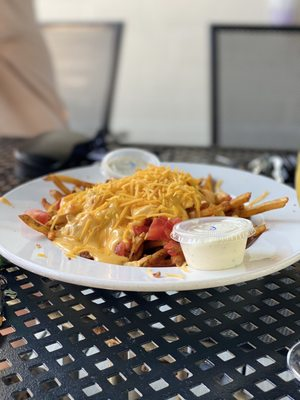sushi: (171, 216, 254, 271), (101, 148, 161, 182)
